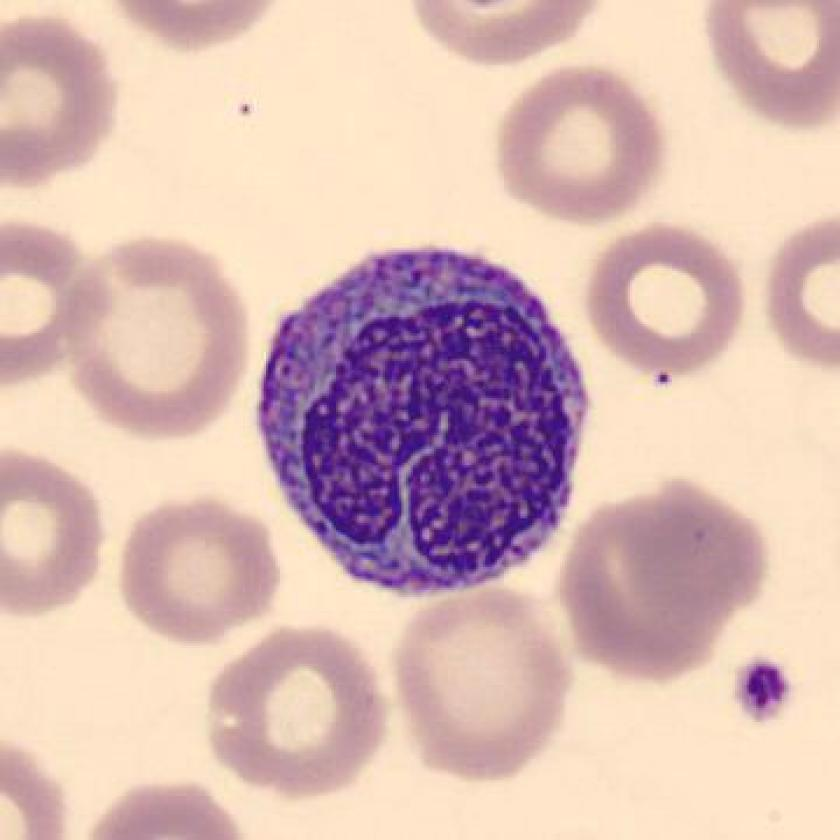monocyte: (246, 225, 603, 612)
